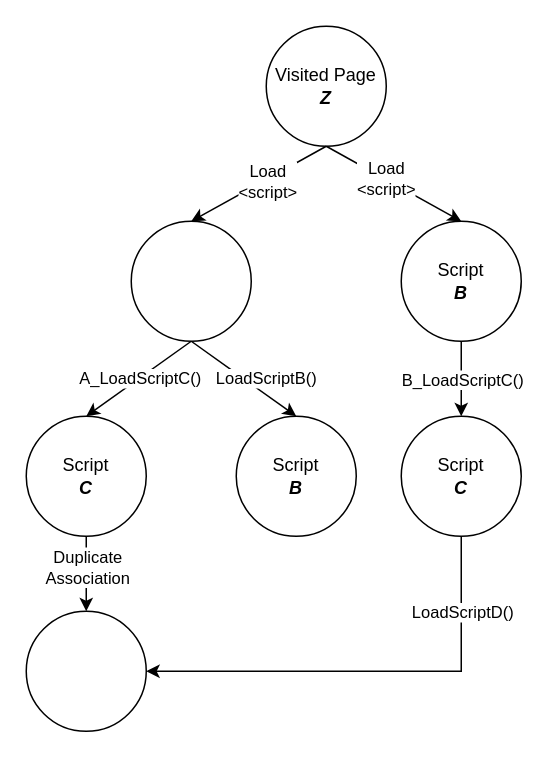
Some shapes in this 549 by 758 pixel diagram are drawn without their labels. The centre of each missing label's shape, as x and y in pixels:
Script A: point 190,280
Script D: point 85,670
